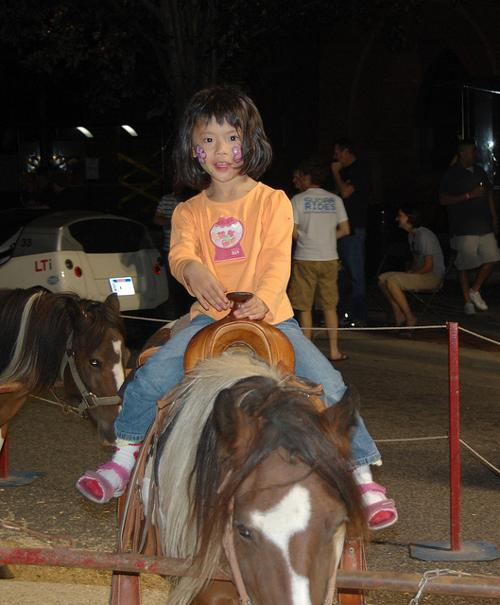person: (78, 86, 397, 528)
